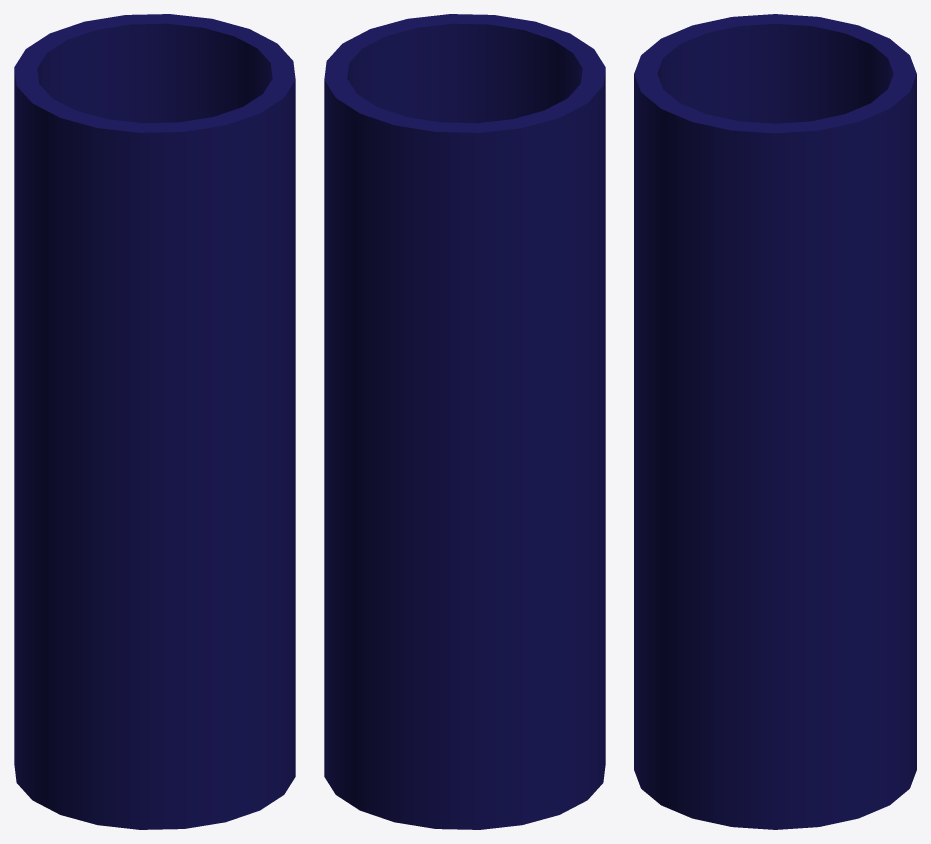
File: Cup.obj
The picture shows the model from 3 angles, left to right: view 1: azimuth 30°, elevation 25°; view 2: azimuth 150°, elevation 25°; view 3: azimuth 270°, elevation 25°; orthographic projection.
Visible parts, largest first — view 1: pCylinder1; view 2: pCylinder1; view 3: pCylinder1.
Boxes of the visible parts, x1,y1,x2,y2 form: pCylinder1: (14,14,295,829); pCylinder1: (324,14,605,829); pCylinder1: (634,14,916,829).
Bounding box in the file's own units: 4.64 × 12.61 × 4.64.
